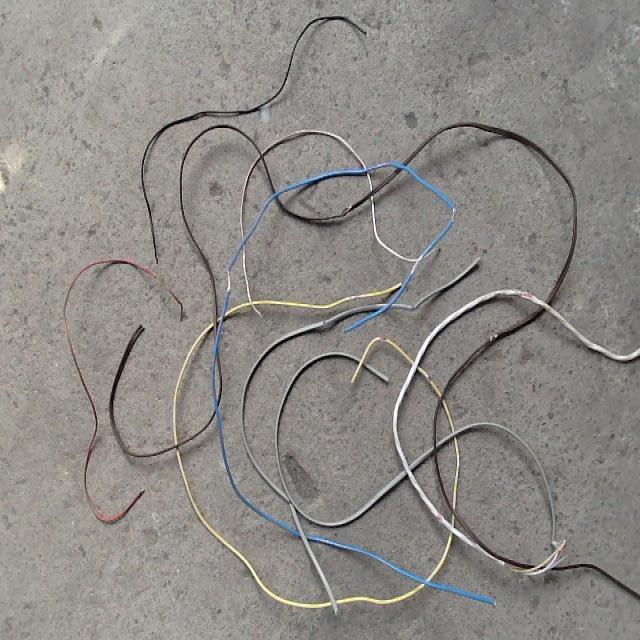-: (409, 253, 422, 272), (516, 289, 532, 299), (340, 204, 351, 216), (488, 332, 497, 344), (226, 267, 229, 289), (377, 333, 386, 340), (451, 205, 455, 220), (425, 374, 432, 382)
